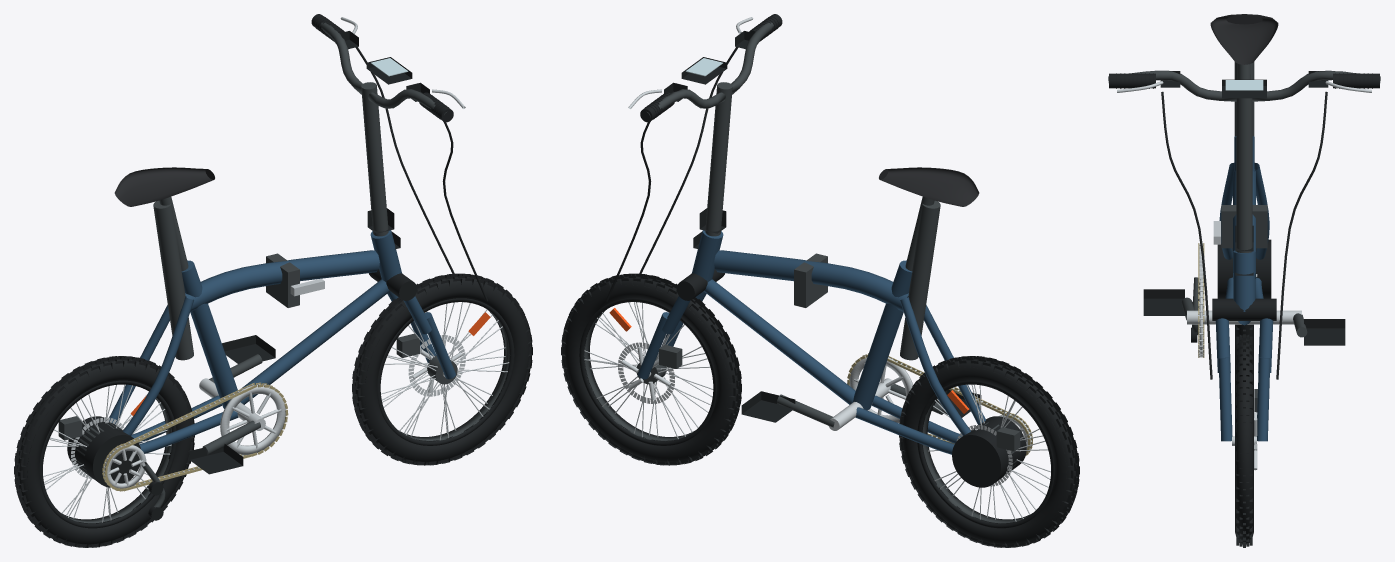
Rendered from fiido-d11.glb.
The picture shows the model from 3 angles, left to right: view 1: azimuth 30°, elevation 25°; view 2: azimuth 150°, elevation 25°; view 3: azimuth 270°, elevation 25°; orthographic projection. The views are drawn at different scales.
Visible parts, largest first — view 1: Chassis | navy, FrontWheel | rubber, RearWheel | rubber, Cockpit | graphite, Drive | steel, FrontWheel | steel, BatteryMount | graphite, Bodywork | seat, MotorMount | black, Drive | black, FrontWheel | black, RearWheel | black (+10 smaller); view 2: Chassis | navy, RearWheel | rubber, FrontWheel | rubber, Cockpit | graphite, FrontWheel | steel, MotorMount | black, BatteryMount | graphite, Bodywork | seat, FrontWheel | black, RearWheel | black, Drive | steel, RearWheel | steel (+10 smaller); view 3: Cockpit | graphite, FrontWheel | rubber, Chassis | navy, Fork | navy, Cockpit | rubber, Bodywork | seat, Drive | black, Cockpit | black, Chassis | graphite, Fork | black, MotorMount | black, Drive | steel (+5 smaller).
Boxes of the visible parts, x1,y1,x2,y2 form: Chassis | navy: (109, 230, 401, 453); FrontWheel | rubber: (352, 273, 532, 465); RearWheel | rubber: (14, 356, 194, 547); Cockpit | graphite: (320, 22, 446, 236); Drive | steel: (103, 378, 286, 488); FrontWheel | steel: (381, 302, 509, 440); BatteryMount | graphite: (153, 200, 193, 360); Bodywork | seat: (114, 167, 214, 206); MotorMount | black: (67, 416, 140, 487); Drive | black: (148, 335, 275, 520); FrontWheel | black: (377, 298, 514, 445); RearWheel | black: (39, 380, 176, 528); Chassis | navy: (692, 230, 985, 454); RearWheel | rubber: (899, 356, 1079, 547); FrontWheel | rubber: (561, 273, 741, 465); Cockpit | graphite: (647, 22, 773, 236); FrontWheel | steel: (584, 302, 713, 439); MotorMount | black: (952, 416, 1026, 487); BatteryMount | graphite: (900, 200, 940, 360); Bodywork | seat: (879, 167, 979, 206); FrontWheel | black: (579, 298, 716, 445); RearWheel | black: (917, 380, 1054, 528); Drive | steel: (829, 355, 1032, 452); RearWheel | steel: (928, 384, 1050, 521); Cockpit | graphite: (1108, 70, 1380, 252); FrontWheel | rubber: (1235, 334, 1253, 547); Chassis | navy: (1219, 136, 1269, 325); Fork | navy: (1215, 318, 1273, 441); Cockpit | rubber: (1109, 73, 1379, 379); Bodywork | seat: (1210, 14, 1278, 64); Drive | black: (1143, 289, 1345, 345); Cockpit | black: (1116, 71, 1372, 251); Chassis | graphite: (1221, 64, 1267, 248); Fork | black: (1212, 298, 1276, 320); MotorMount | black: (1217, 239, 1271, 298); Drive | steel: (1187, 243, 1301, 357).
Bounding box in the file's own units: 1.51 × 1.16 × 0.6634.
